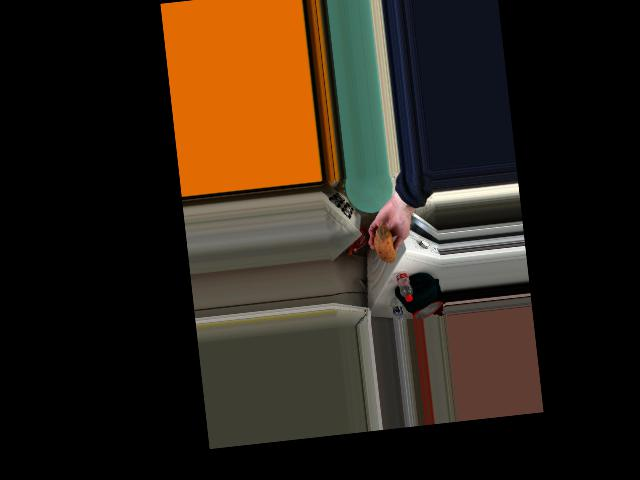sweet_potato: (374, 218, 399, 266)
